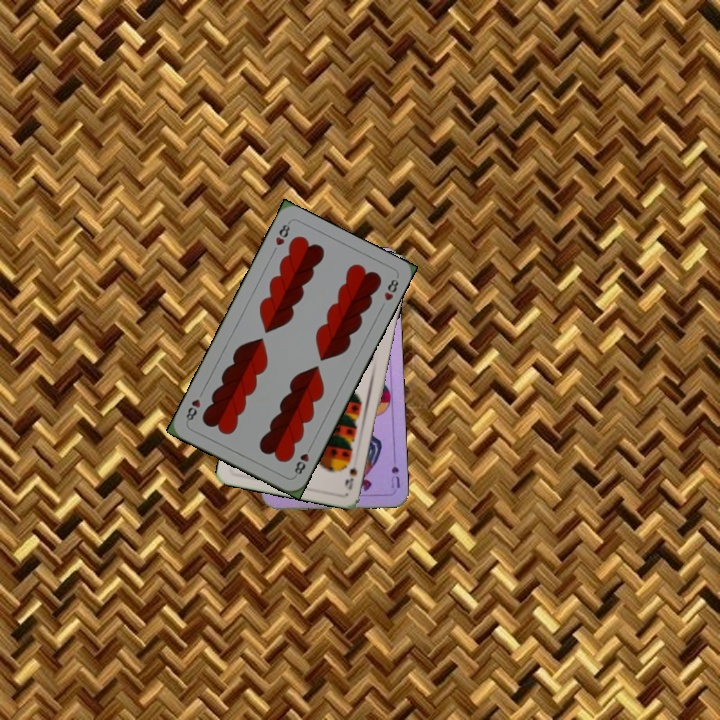H8: (290, 441, 314, 479), (271, 218, 293, 248)
S9: (341, 462, 360, 493)
SU: (387, 450, 402, 491)
